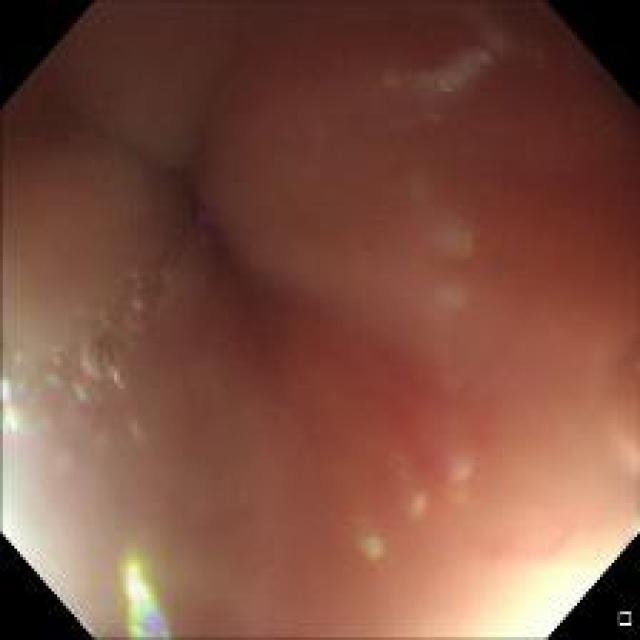bubbles: (2, 332, 138, 440)
color misalignment: (389, 14, 514, 100), (114, 550, 179, 635), (356, 524, 388, 565), (195, 221, 215, 249)
saturation: (471, 536, 618, 634)
specularity: (121, 558, 152, 599), (0, 378, 18, 434)
